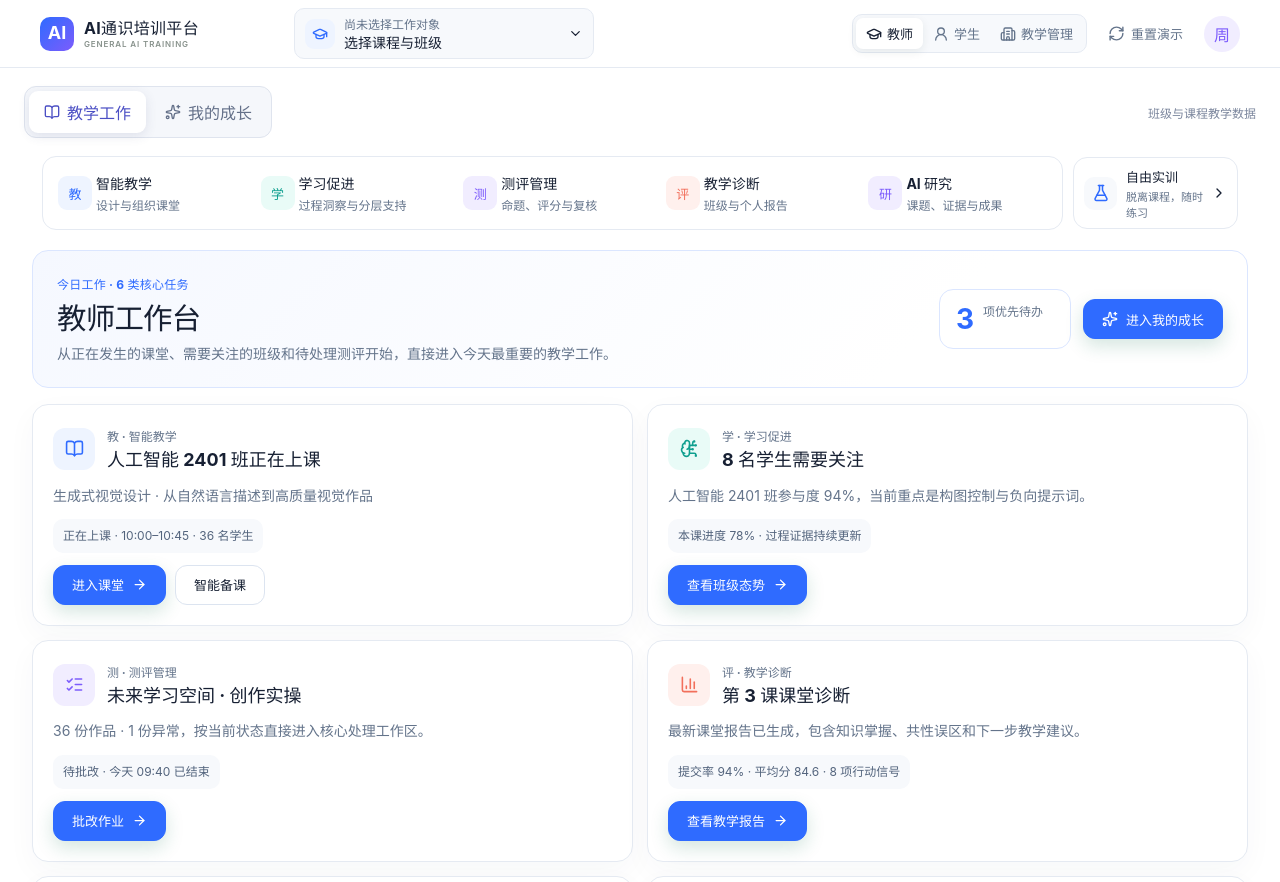
Scenario: AI通识培训平台能力主线 › 教师学习促进按班级态势、掌握诊断、分层干预组织且不伪装成学生
The image size is (1280, 882).
Click the button "查看班级态势" at (738, 585), box [668,565,807,605]
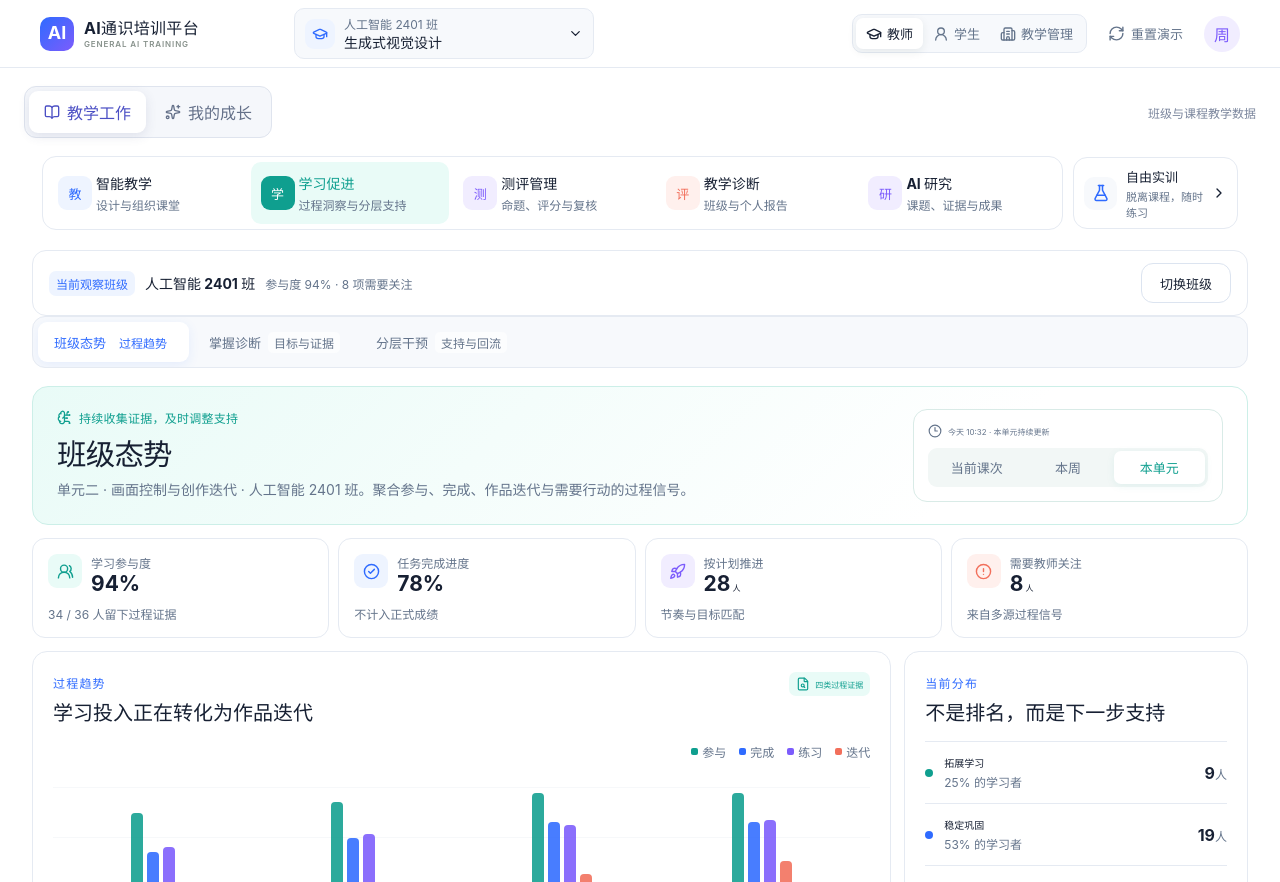
Check: the heading "班级态势" is shown, box [57,436,172,472]
